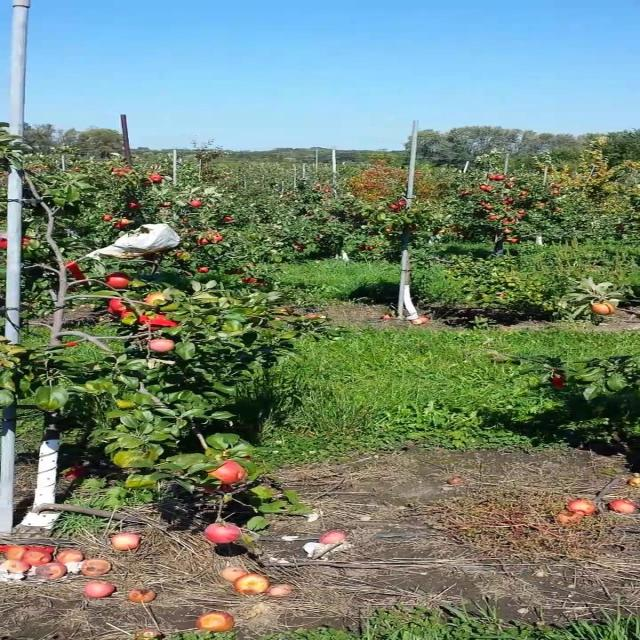apple: (205, 464, 249, 484), (205, 524, 242, 544), (148, 316, 180, 332), (148, 340, 178, 353), (106, 276, 133, 289), (106, 300, 128, 315), (120, 312, 149, 323), (148, 292, 167, 306), (596, 304, 617, 316), (120, 308, 139, 320), (198, 488, 228, 495), (212, 484, 236, 492), (134, 316, 151, 324), (63, 264, 80, 272)
